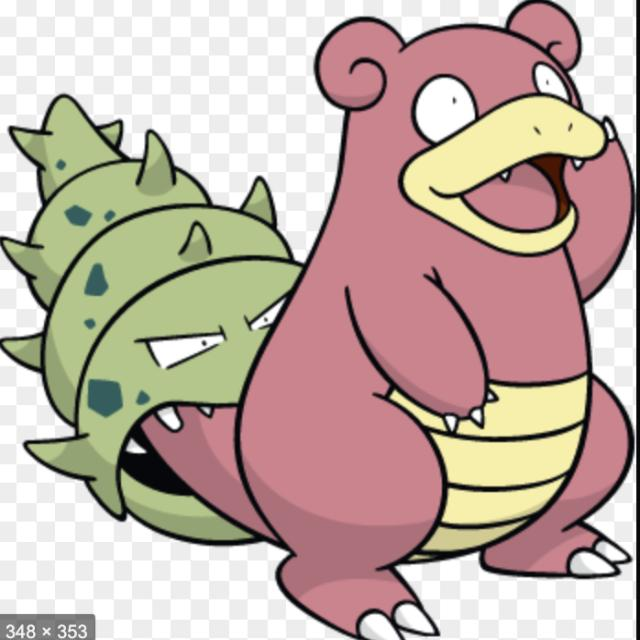Slowbro: (124, 22, 629, 573)
